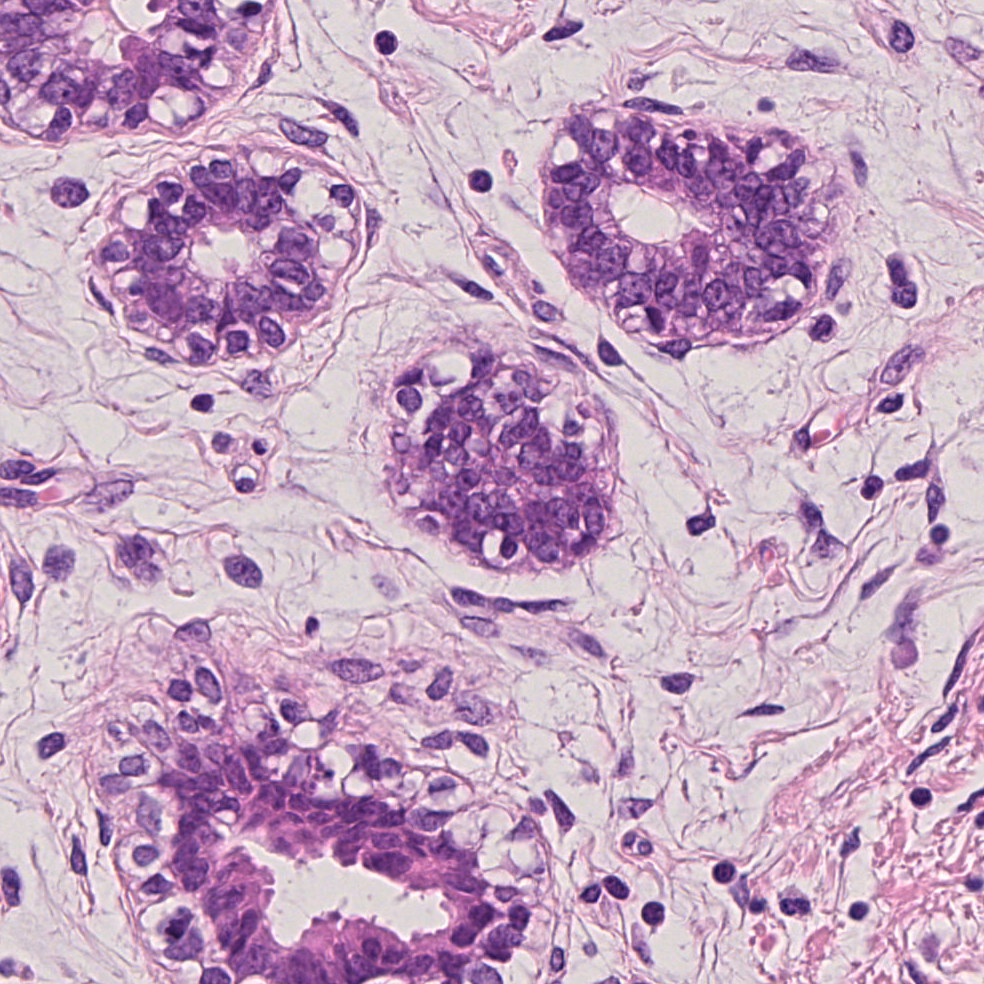leukocyte: (925, 486, 950, 526), (726, 872, 752, 909), (779, 895, 814, 918), (862, 470, 888, 499), (811, 314, 837, 342), (374, 26, 399, 54), (606, 874, 632, 900), (712, 860, 738, 886), (888, 254, 909, 286), (742, 897, 772, 918), (910, 788, 939, 809), (929, 519, 953, 544), (848, 899, 874, 922), (191, 394, 219, 413), (498, 533, 519, 558), (918, 547, 946, 565), (282, 176, 305, 194), (763, 97, 786, 114), (576, 774, 593, 793), (947, 802, 973, 814), (970, 874, 984, 893), (597, 977, 620, 984)
